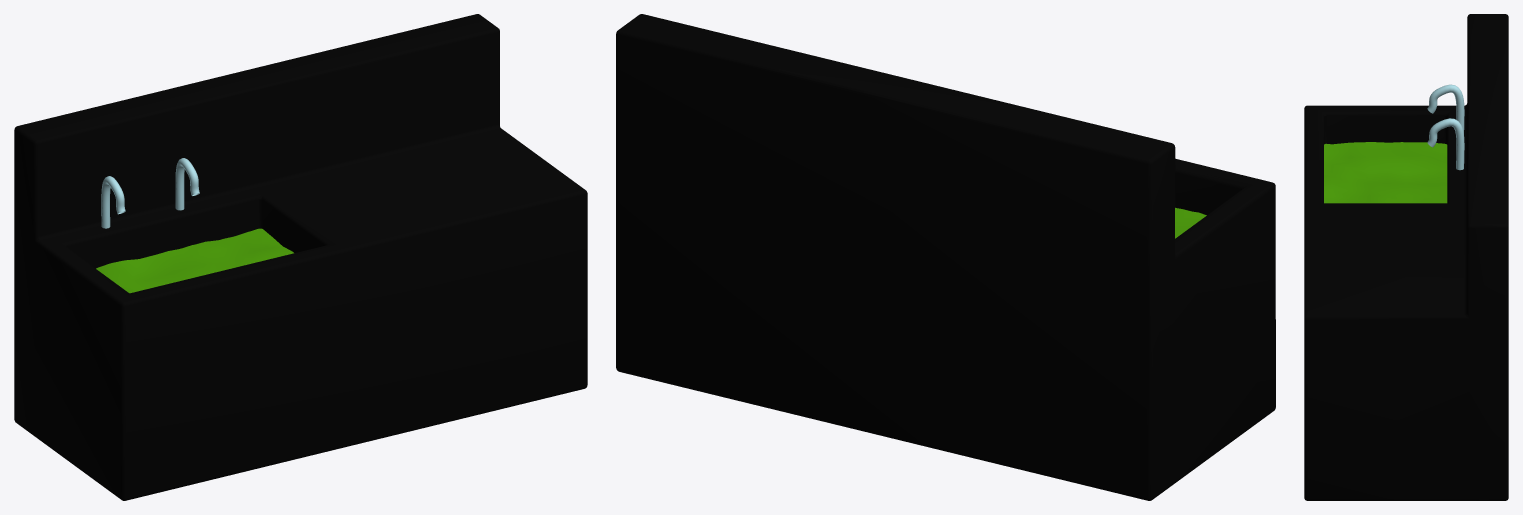
Rendered from lab-bench.glb.
The picture shows the model from 3 angles, left to right: view 1: azimuth 30°, elevation 25°; view 2: azimuth 150°, elevation 25°; view 3: azimuth 270°, elevation 25°; orthographic projection. The views are drawn at different scales.
Parts seen in each view (by area): view 1: sink, Plane, BézierCurve.001, BézierCurve; view 2: sink; view 3: sink, Plane, BézierCurve.001, BézierCurve.
Part boxes in pixels (box(x1,y1,x2,y2)): sink: box(14, 14, 587, 500); Plane: box(96, 228, 293, 293); BézierCurve.001: box(175, 158, 199, 210); BézierCurve: box(101, 176, 125, 228); sink: box(616, 14, 1275, 500); sink: box(1304, 14, 1508, 500); Plane: box(1324, 142, 1447, 203); BézierCurve.001: box(1427, 118, 1464, 170); BézierCurve: box(1427, 84, 1464, 133).
Bounding box in the file's own units: 3.73 × 2.27 × 1.52.
